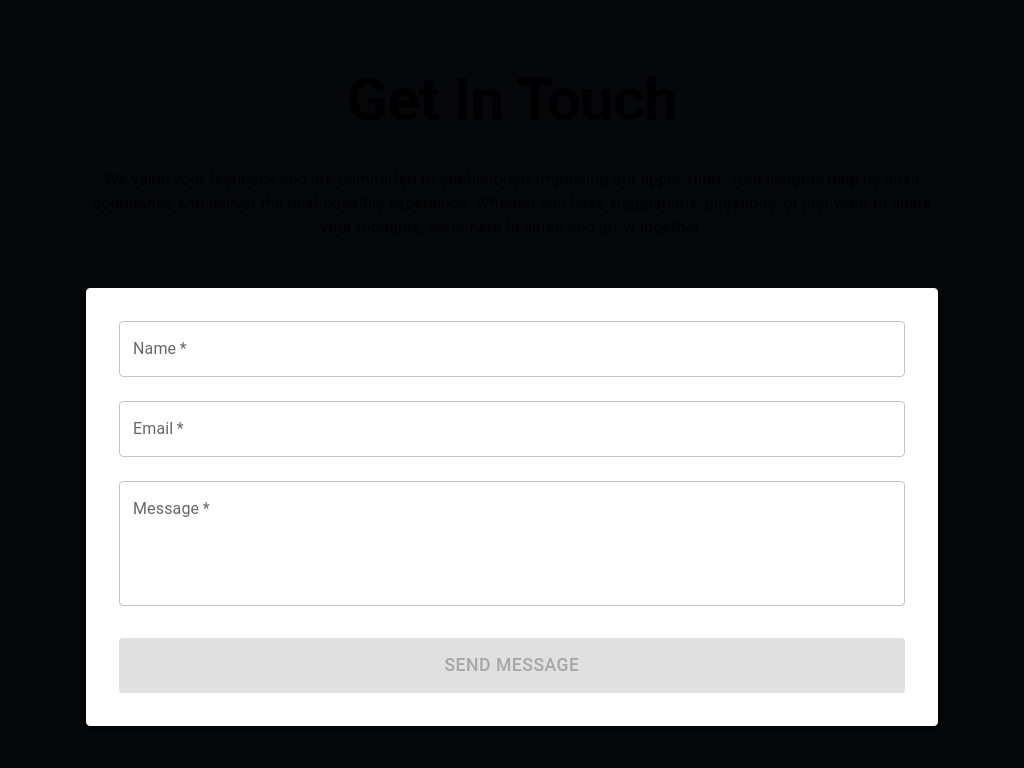
Test: Contact Component › handles form submission error
Type "John Doe" into the field labelled "Name *".
click(512, 349); type("John Doe")  # box x1=119 y1=321 x2=905 y2=377
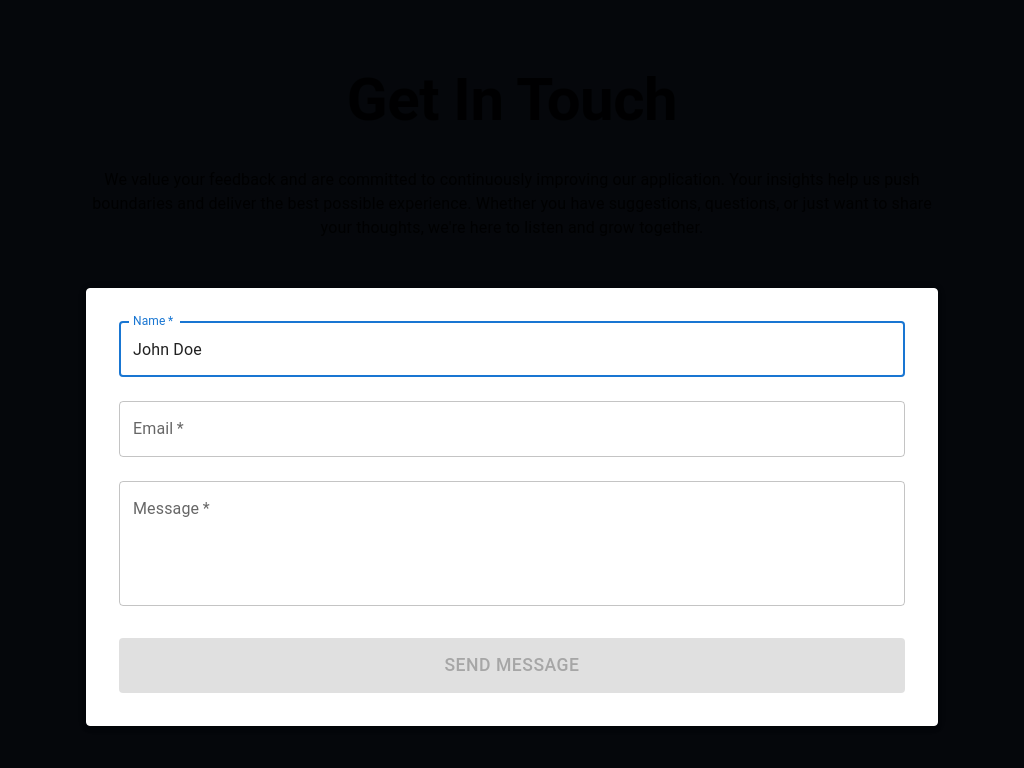
Type "john@example.com" into the field labelled "Email *".
click(512, 429); type("john@example.com")  # box x1=119 y1=401 x2=905 y2=457
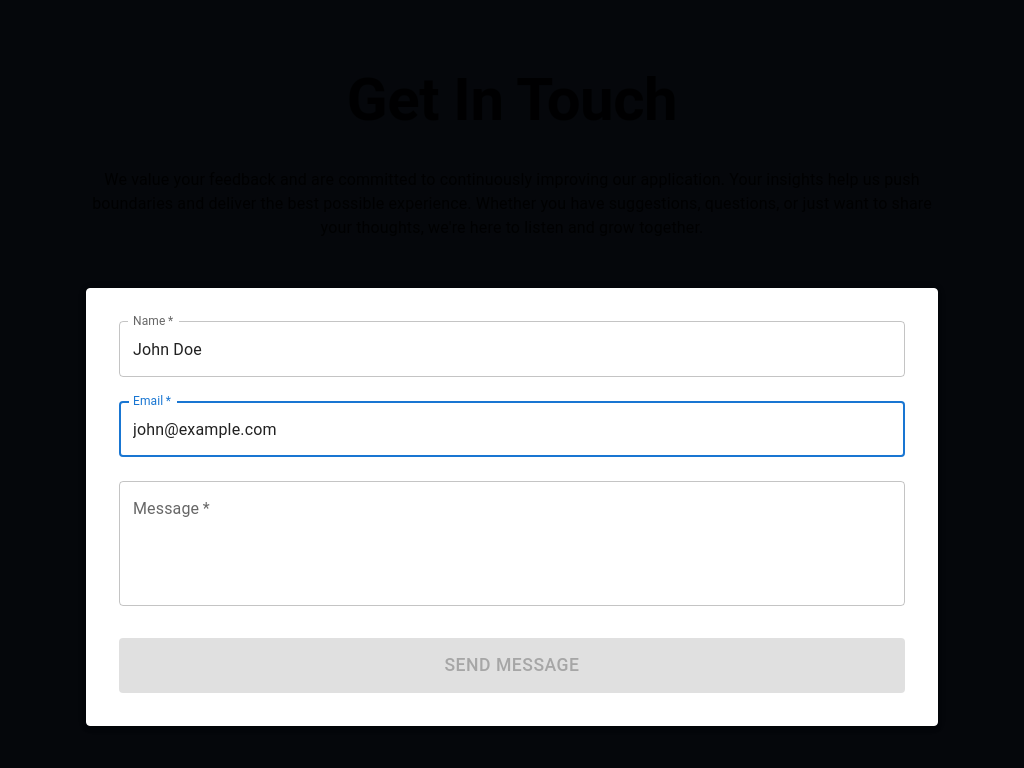
Type "Test message" into the text box labelled "Message *".
click(512, 544); type("Test message")  # box x1=133 y1=498 x2=891 y2=590
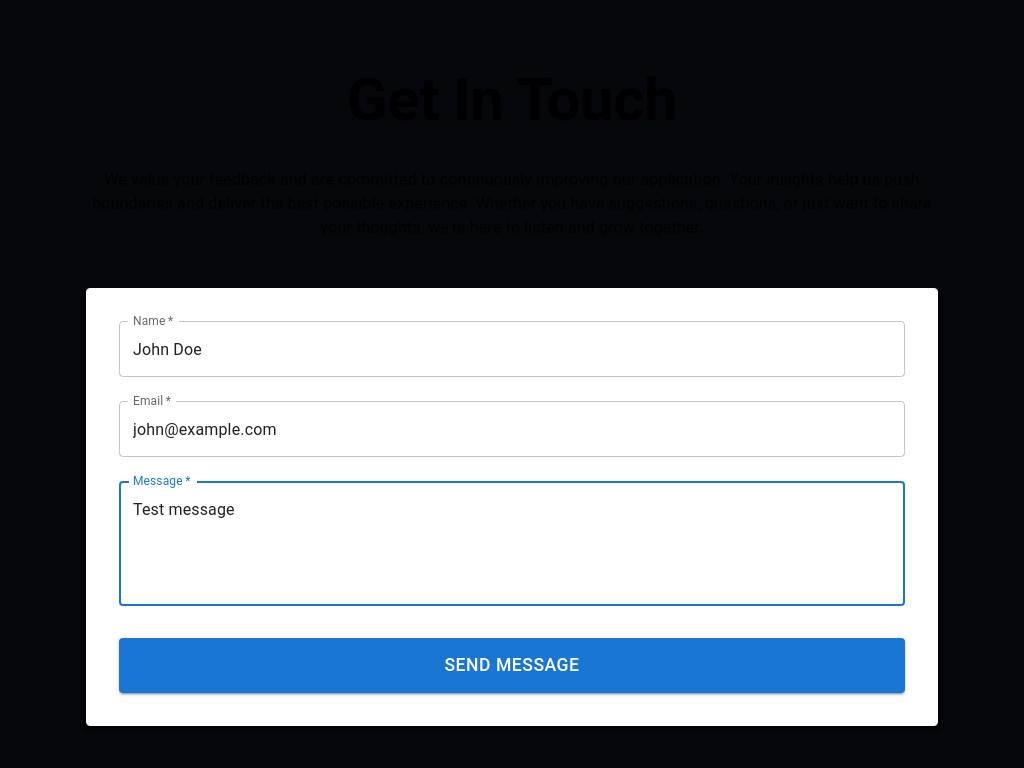
Submit the form "Name * Email * Message * Send Message", box x1=119 y1=321 x2=905 y2=693
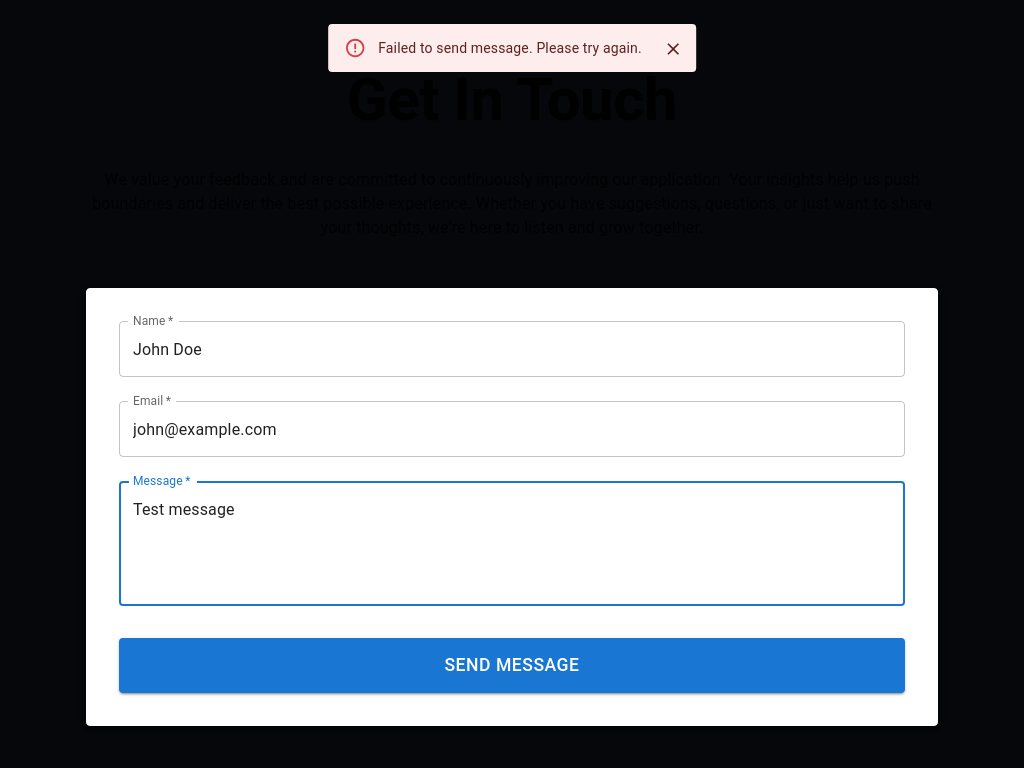
Result: the text "Failed to send message. Please try again." is shown at x1=378 y1=40 x2=642 y2=56
